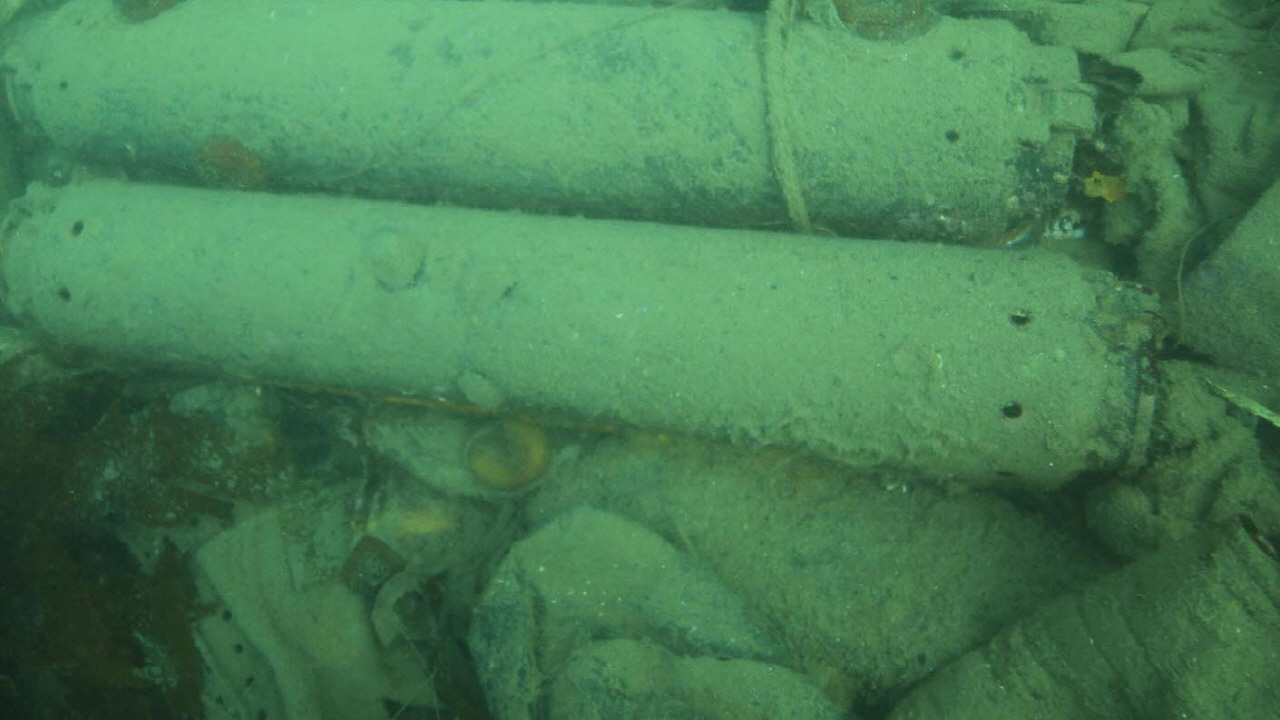eel fish trap: (0, 179, 1159, 492), (0, 0, 1085, 251)
rope: (757, 0, 819, 236)
